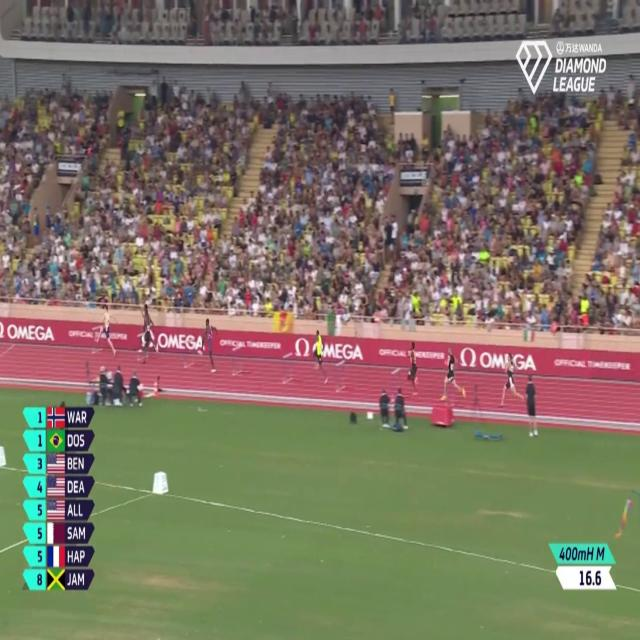athlete: (441, 344, 469, 410), (496, 351, 526, 412), (200, 315, 220, 380), (311, 324, 328, 396), (97, 301, 117, 359), (139, 302, 157, 366), (405, 338, 421, 400)
hurdle: (133, 331, 151, 366), (281, 350, 298, 385), (181, 338, 198, 371), (336, 358, 349, 401), (390, 364, 402, 407), (232, 344, 246, 380), (91, 318, 102, 362)
